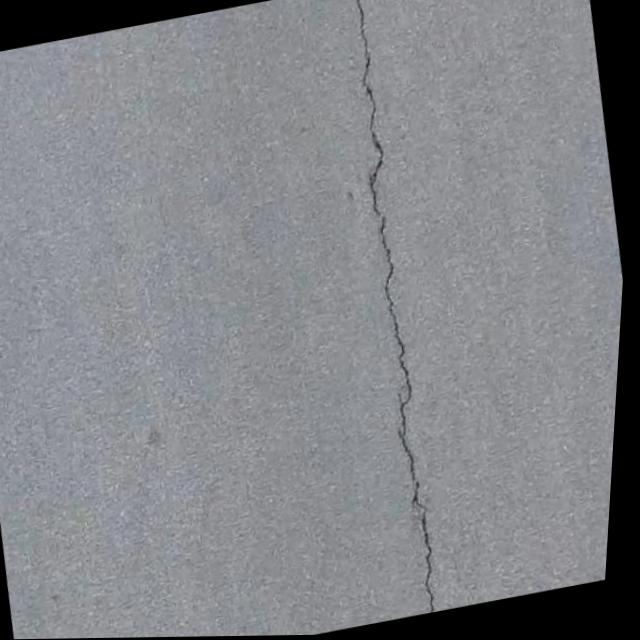Crack: (299, 0, 491, 620)
